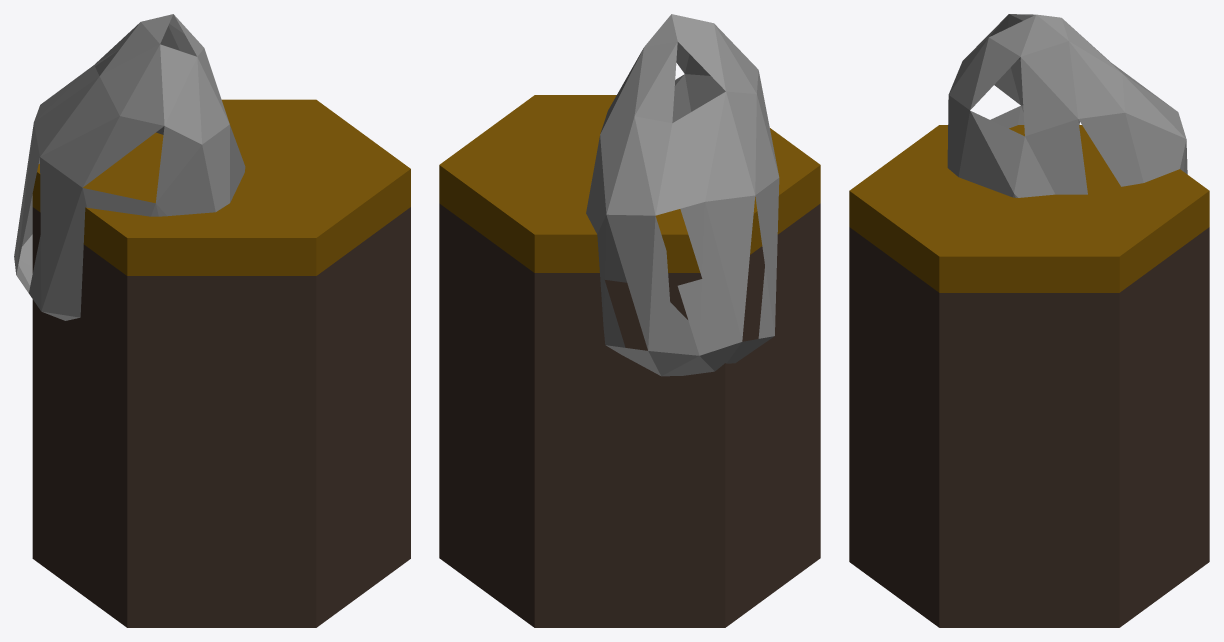
The model's file is DeadGroundIron.fbx.
3 views of the same model, side by side, from view 1: azimuth 30°, elevation 25°; view 2: azimuth 150°, elevation 25°; view 3: azimuth 270°, elevation 25° (orthographic). The views are drawn at different scales.
Visible parts, largest first — view 1: Cylinder, Icosphere; view 2: Cylinder, Icosphere; view 3: Cylinder, Icosphere.
Part boxes in pixels (x1,y1,x2,y2): Cylinder: (32, 99, 410, 627); Icosphere: (14, 14, 245, 320); Cylinder: (439, 95, 820, 627); Icosphere: (586, 14, 779, 376); Cylinder: (849, 125, 1209, 627); Icosphere: (947, 14, 1187, 197).
Size of the model in its own units: 186 by 323 by 200.
